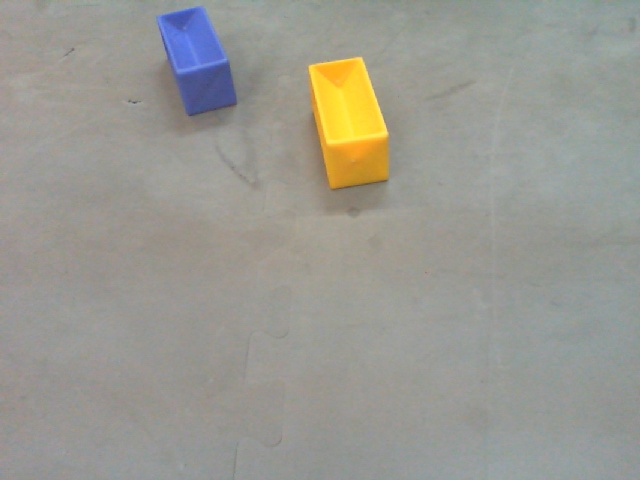BlueSample: (154, 5, 241, 118)
YellowSample: (306, 56, 396, 190)
